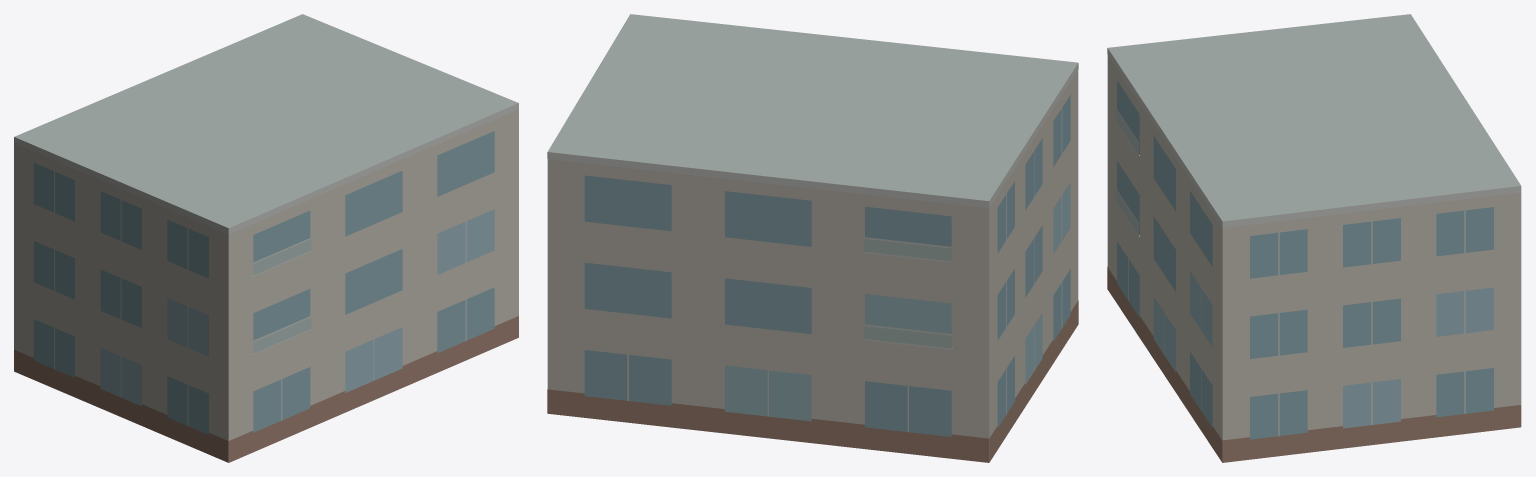
Rendered from survey-upis-32971296.glb.
3 views of the same model, side by side, from view 1: azimuth 30°, elevation 25°; view 2: azimuth 150°, elevation 25°; view 3: azimuth 270°, elevation 25° (orthographic). The views are drawn at different scales.
Parts seen in each view (by area): view 1: survey-upis-32971296.tmp; view 2: survey-upis-32971296.tmp; view 3: survey-upis-32971296.tmp.
Boxes of the visible parts, x1,y1,x2,y2 form: survey-upis-32971296.tmp: [14, 14, 518, 462]; survey-upis-32971296.tmp: [547, 14, 1078, 462]; survey-upis-32971296.tmp: [1107, 14, 1521, 462].
Bounding box in the file's own units: 16.88 × 9.15 × 14.23.
